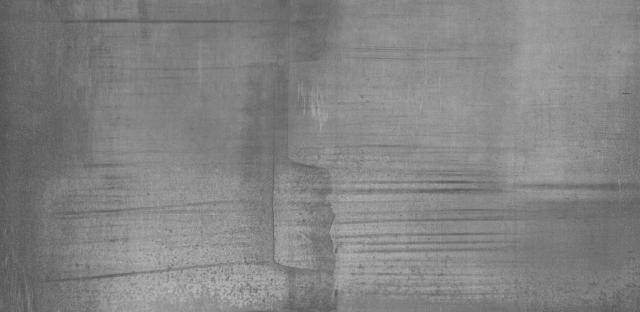waist_folding: (78, 127, 632, 294)
